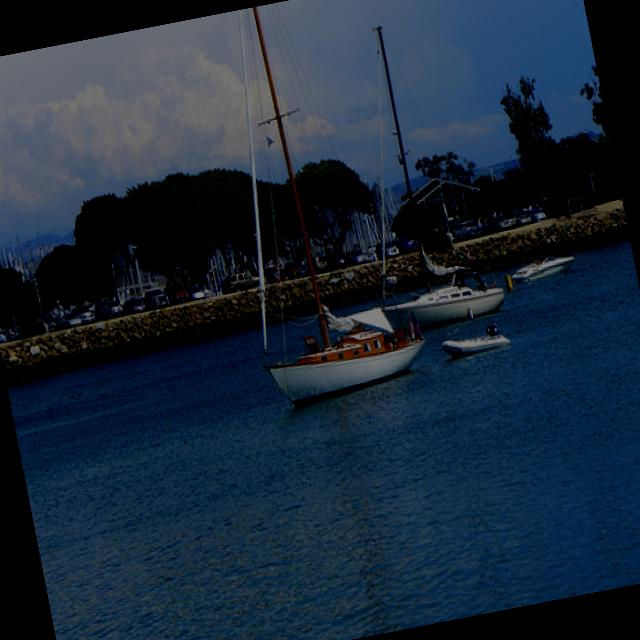Vehicle: (0, 212, 507, 349), (454, 219, 484, 242), (164, 282, 192, 306), (96, 298, 124, 320), (394, 233, 421, 255), (120, 296, 148, 315), (326, 249, 350, 271), (494, 212, 518, 230), (184, 282, 207, 300), (57, 312, 82, 328), (328, 252, 353, 268), (346, 248, 368, 266), (44, 312, 60, 332), (527, 208, 547, 222), (516, 212, 532, 226), (0, 329, 7, 342)
